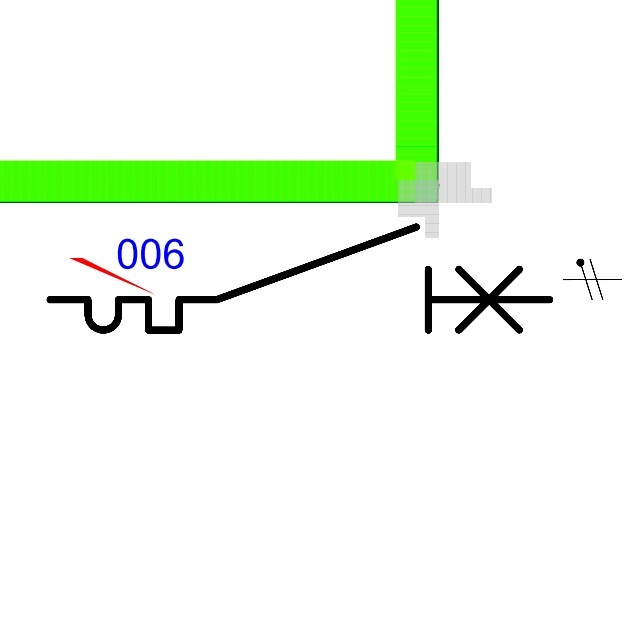interruptor_termomagnetico: (37, 214, 563, 343)
